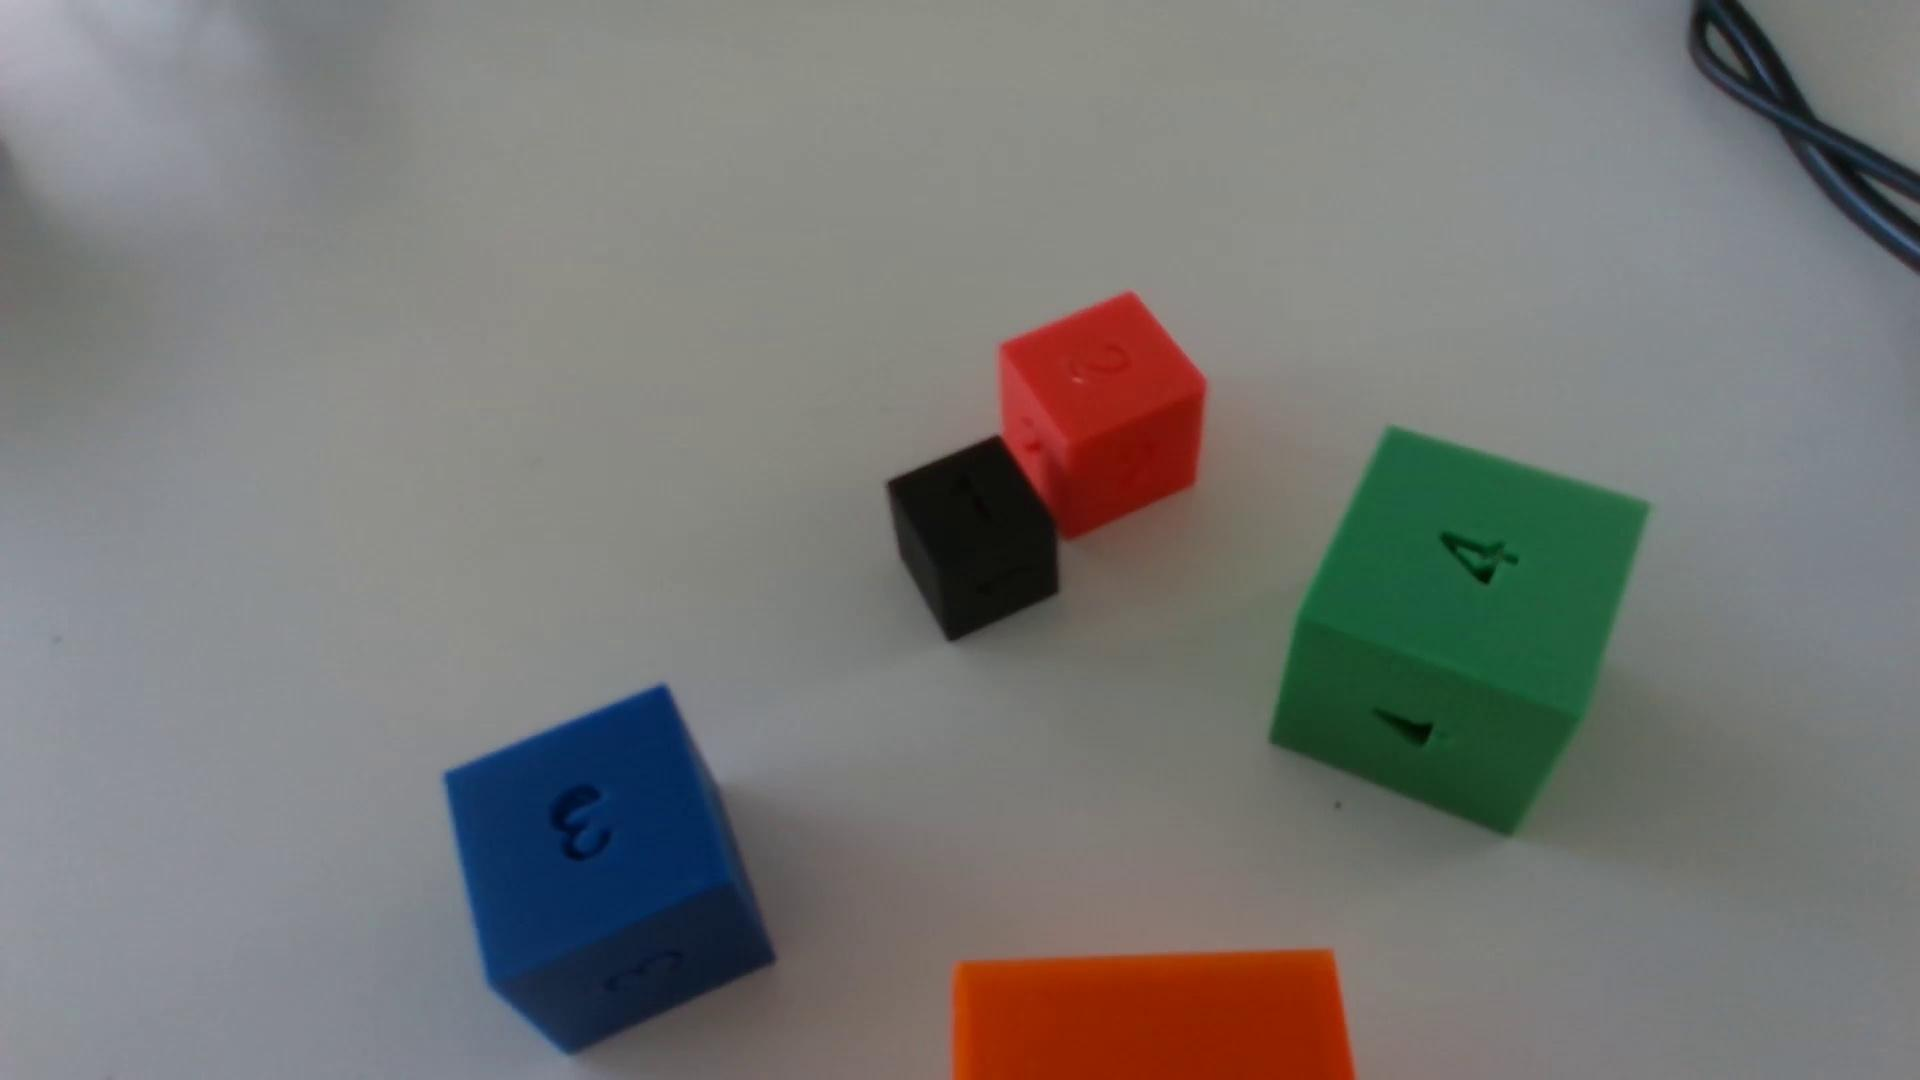black: (887, 438, 1059, 644)
blue: (444, 687, 775, 1054)
green: (1270, 429, 1648, 833)
orange: (951, 951, 1354, 1080)
red: (998, 294, 1207, 541)
